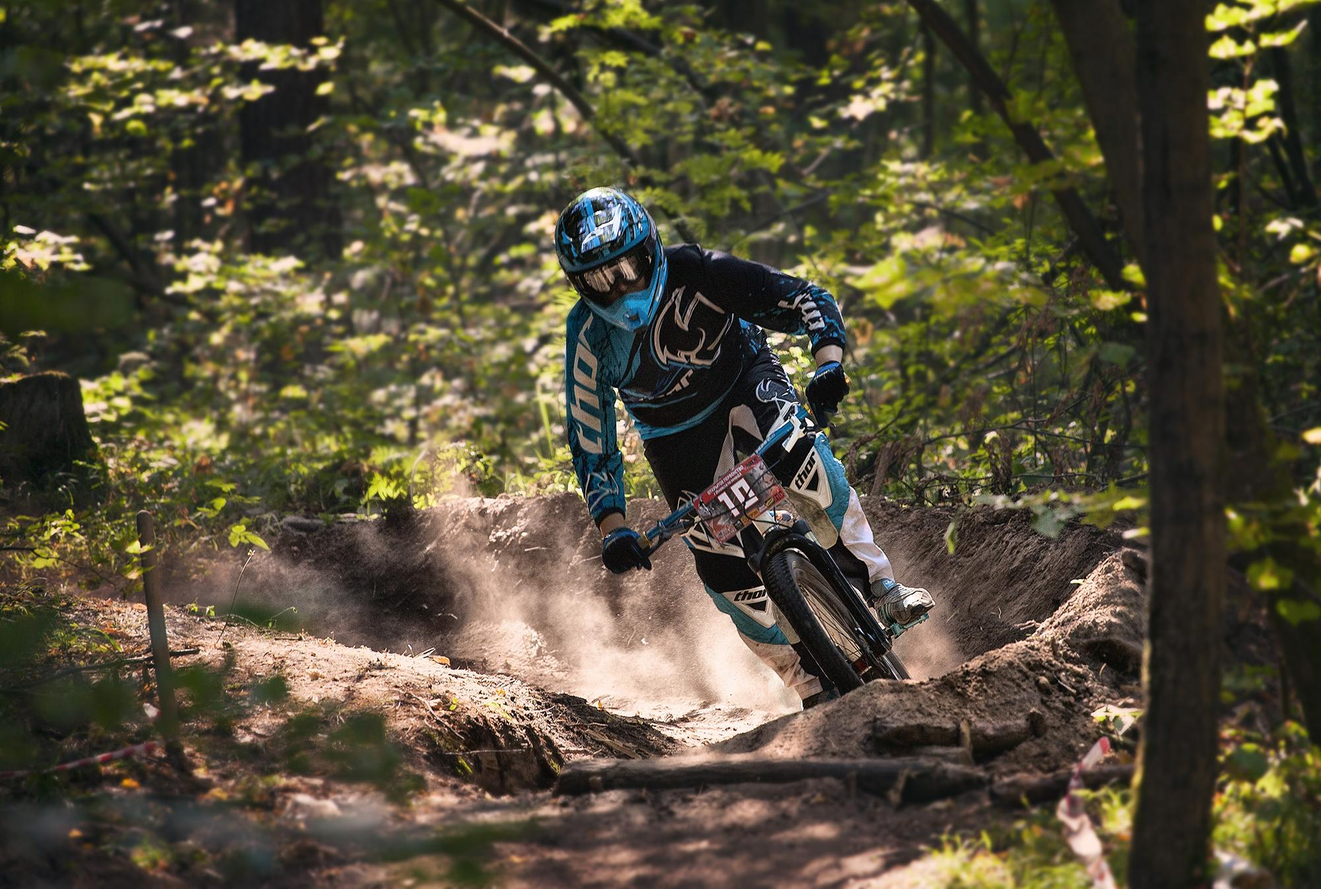helmet: (554, 185, 670, 335)
